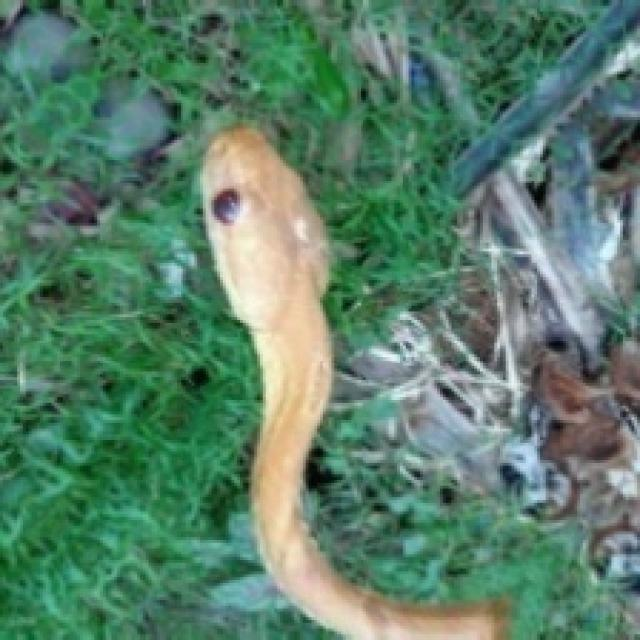philippine cat snake: (203, 126, 506, 637)
